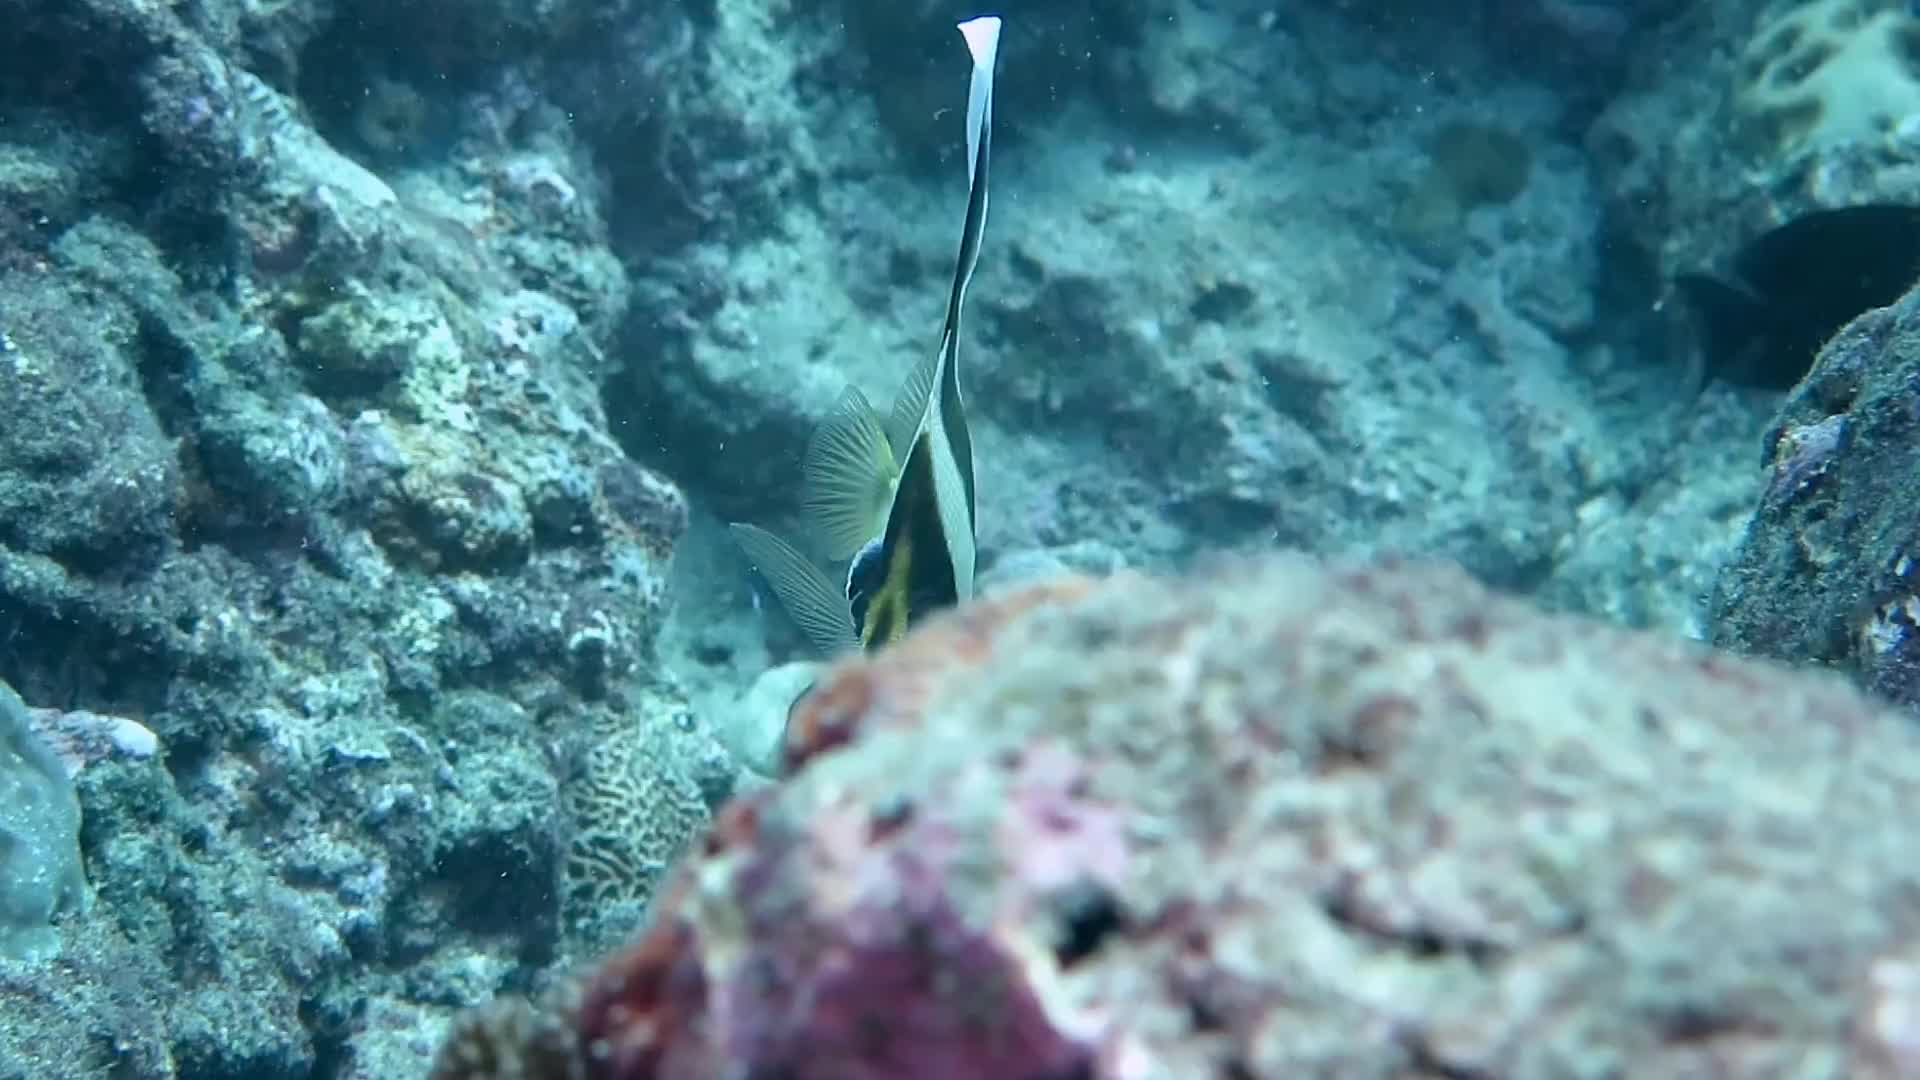Heniochus chrysostomus: (729, 1, 1054, 733)
